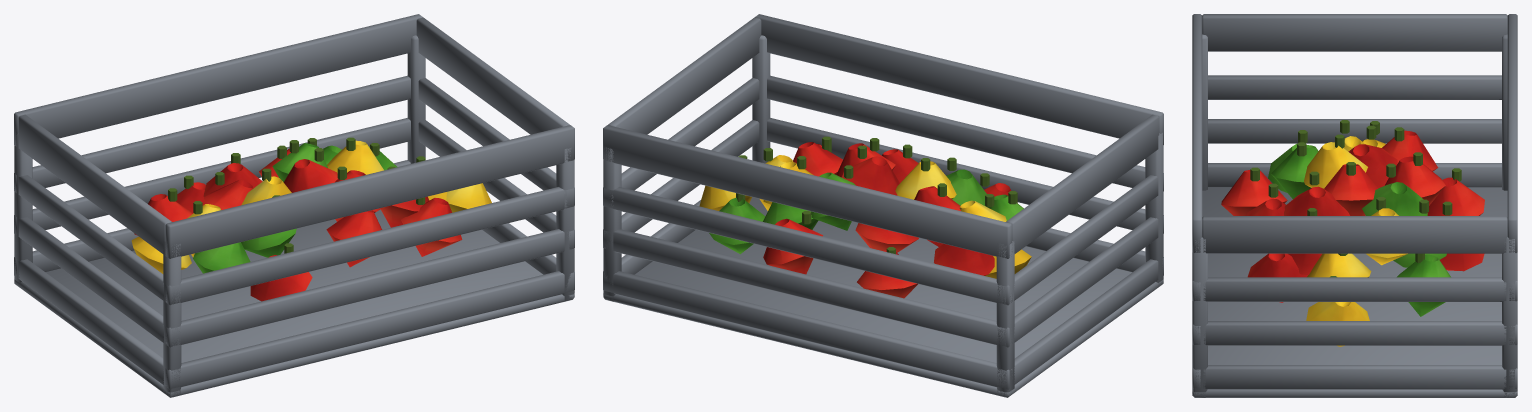
Rendered from harvest_crate_peppers.glb.
3 views of the same model, side by side, from view 1: azimuth 30°, elevation 25°; view 2: azimuth 150°, elevation 25°; view 3: azimuth 270°, elevation 25° (orthographic). The views are drawn at different scales.
Parts seen in each view (by area): view 1: harvest_crate_peppers; view 2: harvest_crate_peppers; view 3: harvest_crate_peppers.
Boxes of the visible parts, x1=… form: harvest_crate_peppers: x1=14, y1=14, x2=574, y2=397; harvest_crate_peppers: x1=603, y1=14, x2=1163, y2=397; harvest_crate_peppers: x1=1192, y1=14, x2=1517, y2=397.
Size of the model in its own units: 0.6 by 0.2438 by 0.4.
Materials: 5 (3 with a texture image).
